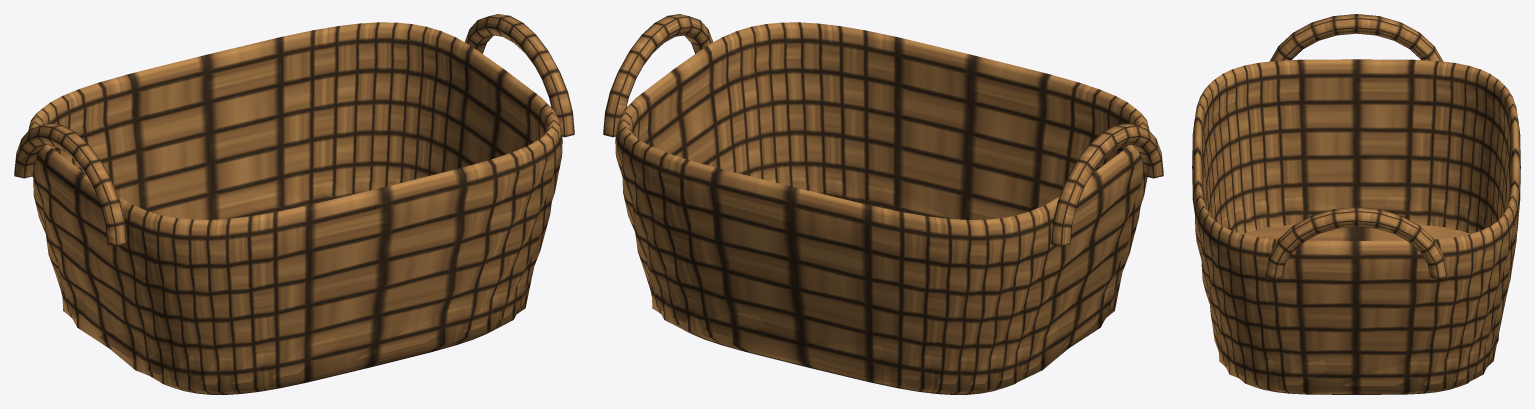
File: skull_basket.glb
3 renders of one model, left to right at view 1: azimuth 30°, elevation 25°; view 2: azimuth 150°, elevation 25°; view 3: azimuth 270°, elevation 25°, orthographic. The views are drawn at different scales.
Parts seen in each view (by area): view 1: skull_basket; view 2: skull_basket; view 3: skull_basket.
Part boxes in pixels (x1=…): skull_basket: x1=14, y1=14, x2=574, y2=394; skull_basket: x1=603, y1=14, x2=1163, y2=394; skull_basket: x1=1192, y1=14, x2=1520, y2=394.
Bounding box in the file's own units: 0.58 × 0.2784 × 0.4.
1 material, 1 textured.
